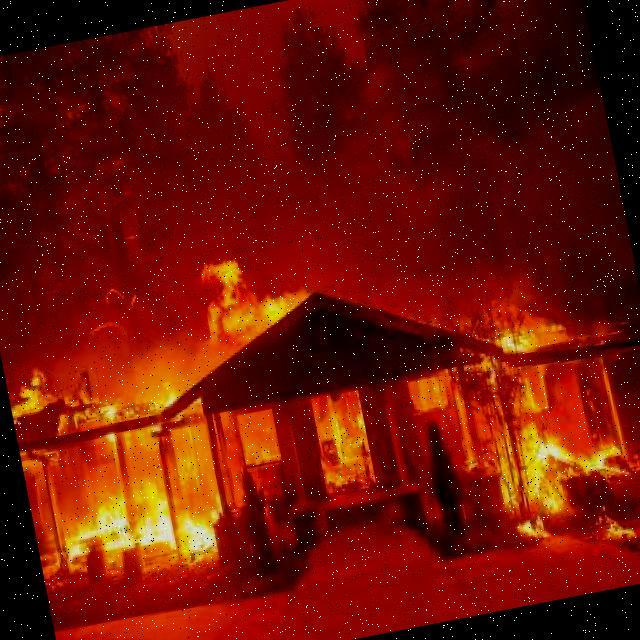Fire: (81, 372, 184, 456), (514, 426, 597, 512), (198, 258, 257, 349), (46, 510, 108, 579), (318, 414, 373, 491), (130, 495, 188, 559), (580, 421, 633, 490), (171, 496, 225, 559), (8, 363, 60, 424), (250, 283, 300, 338), (84, 483, 132, 536), (598, 499, 640, 559), (495, 324, 536, 368), (512, 514, 557, 553)
